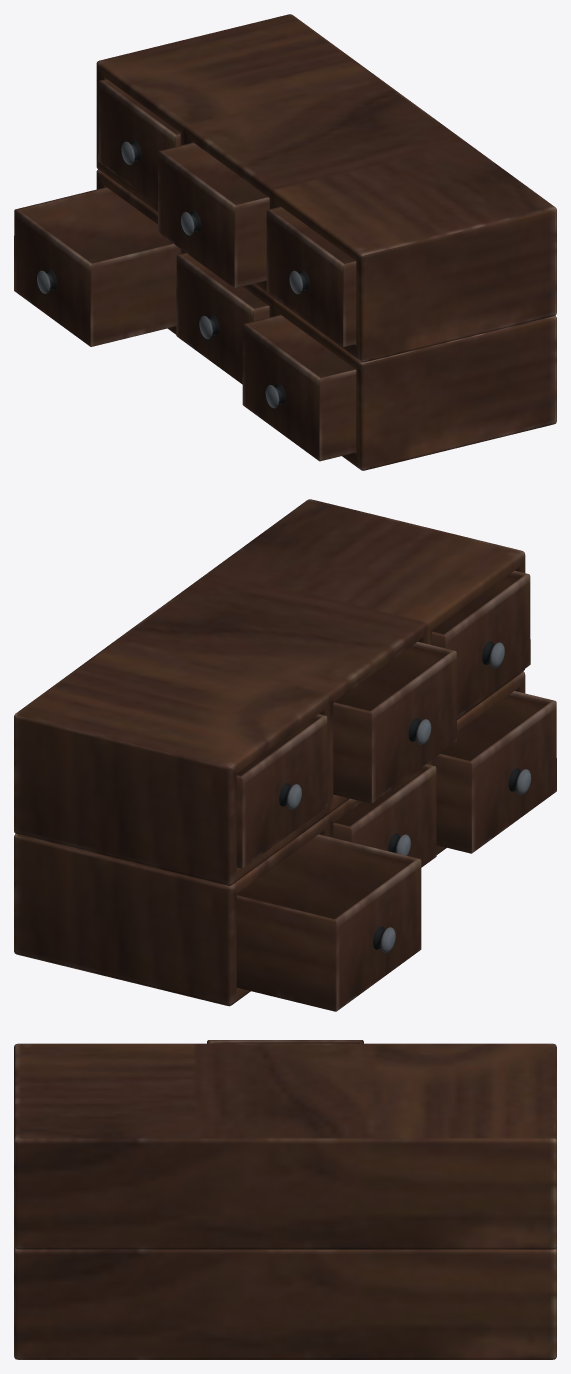
The model's file is SM_TillFrame_Pack4.fbx.
3 views of the same model, one above another, from view 1: azimuth 30°, elevation 25°; view 2: azimuth 150°, elevation 25°; view 3: azimuth 270°, elevation 25° (orthographic). The views are drawn at different scales.
Parts seen in each view (by area): view 1: SM_TillFrame_Pack4_LOD0; view 2: SM_TillFrame_Pack4_LOD0; view 3: SM_TillFrame_Pack4_LOD0.
Boxes of the visible parts, bbox=[...] form: SM_TillFrame_Pack4_LOD0: bbox=[14, 14, 556, 470]; SM_TillFrame_Pack4_LOD0: bbox=[14, 499, 556, 1011]; SM_TillFrame_Pack4_LOD0: bbox=[14, 1040, 556, 1359].
Size of the model in its own units: 45.03 by 70.19 by 31.51.
1 material, 1 textured.
